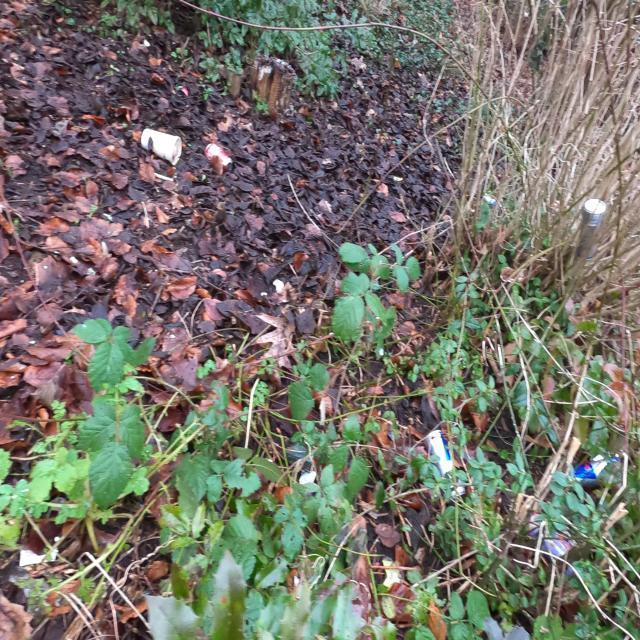Can-Metal: (410, 426, 472, 504), (566, 444, 622, 489), (204, 138, 236, 176)
Cup: (140, 126, 184, 166)
